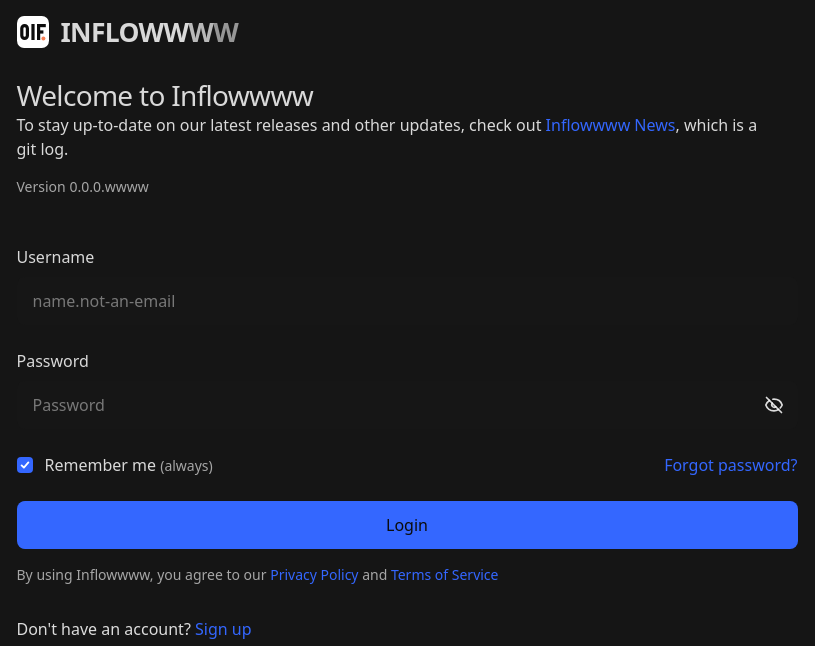
Landing typed sign-in refusals › a deactivated employee gets the reason in a banner, and can start over
Type "ann" into the field labelled "Username" at [407, 301], box [16, 277, 798, 325]
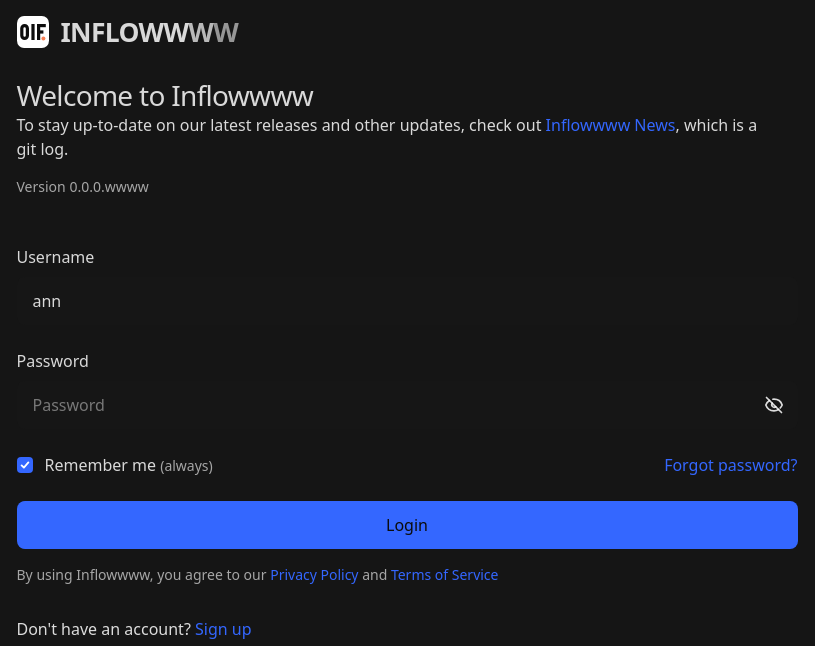
Type "secret-pw" into the password field with placeholder "Password" at [407, 405], box [16, 381, 798, 429]
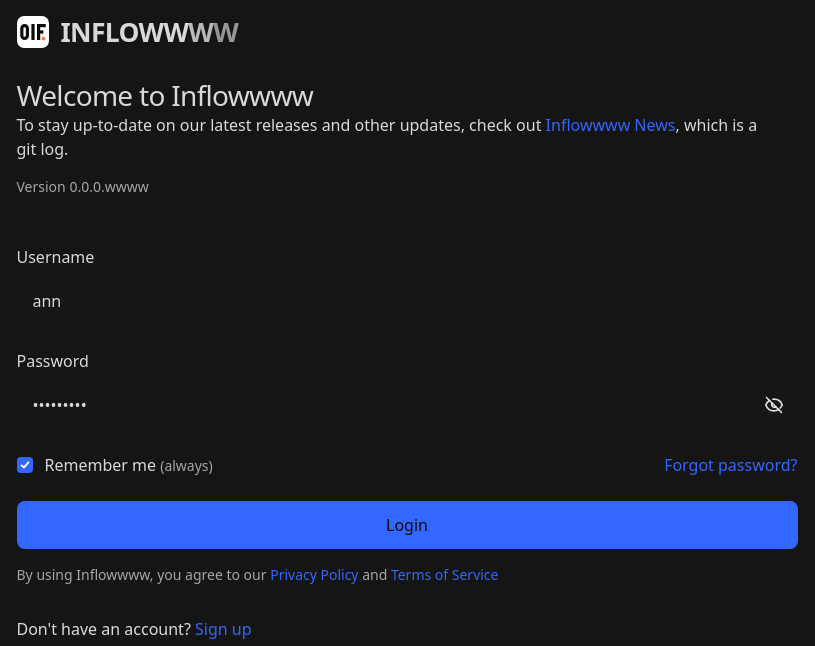
Submit the form, box [16, 245, 798, 585]
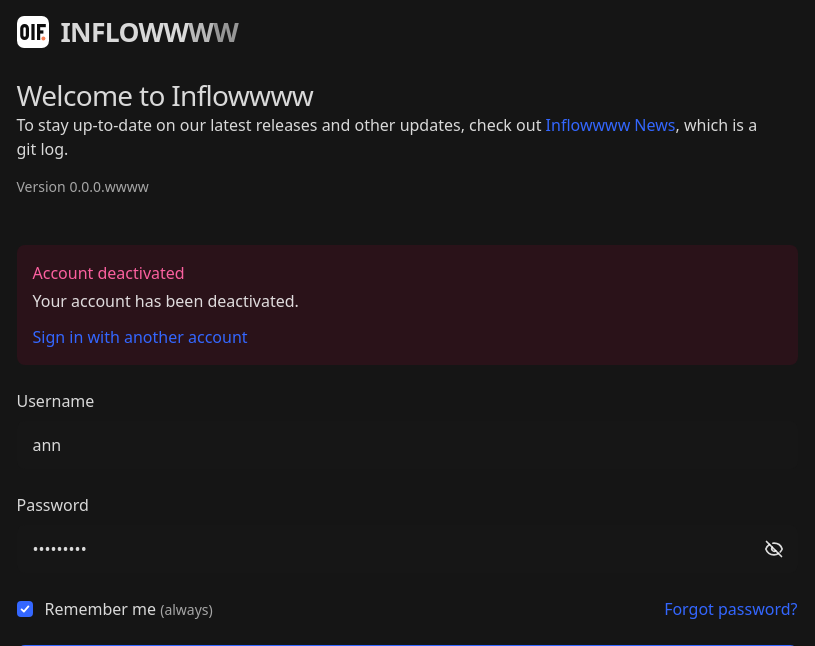
Expected: the message shows "Account deactivated", [32, 262, 185, 284]
Expected: the message shows "Your account has been deactivated.", [32, 290, 299, 312]
Click the button "Sign in with another account" at [140, 337], box [32, 325, 248, 349]
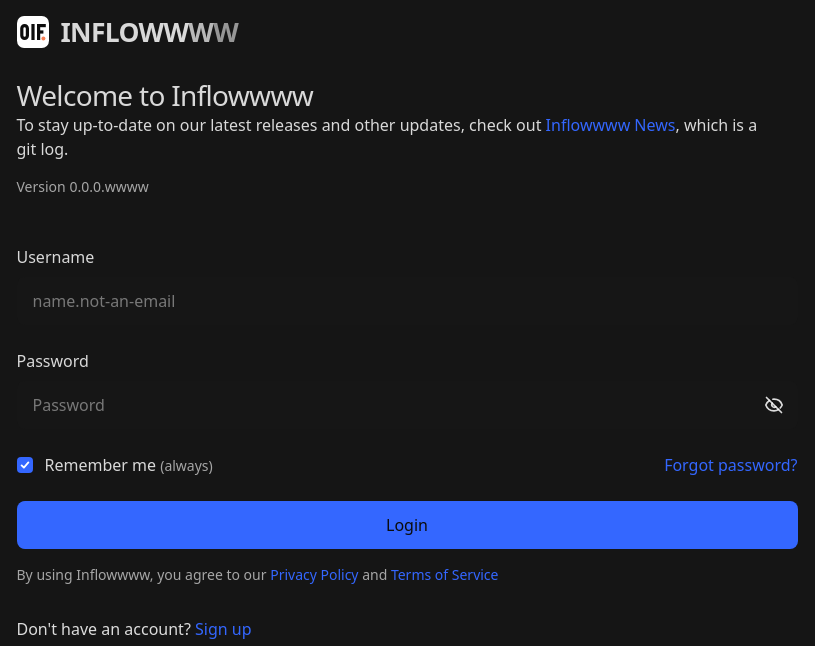
Expected: the message is gone
Expected: the field labelled "Username" is empty, [16, 277, 798, 325]
